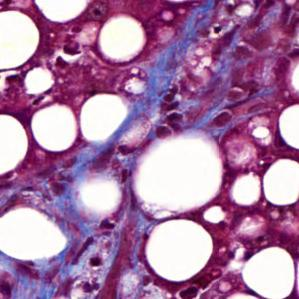steatosis: (145, 219, 212, 282), (0, 12, 41, 70), (262, 158, 299, 208), (0, 112, 29, 175), (278, 101, 299, 149)
